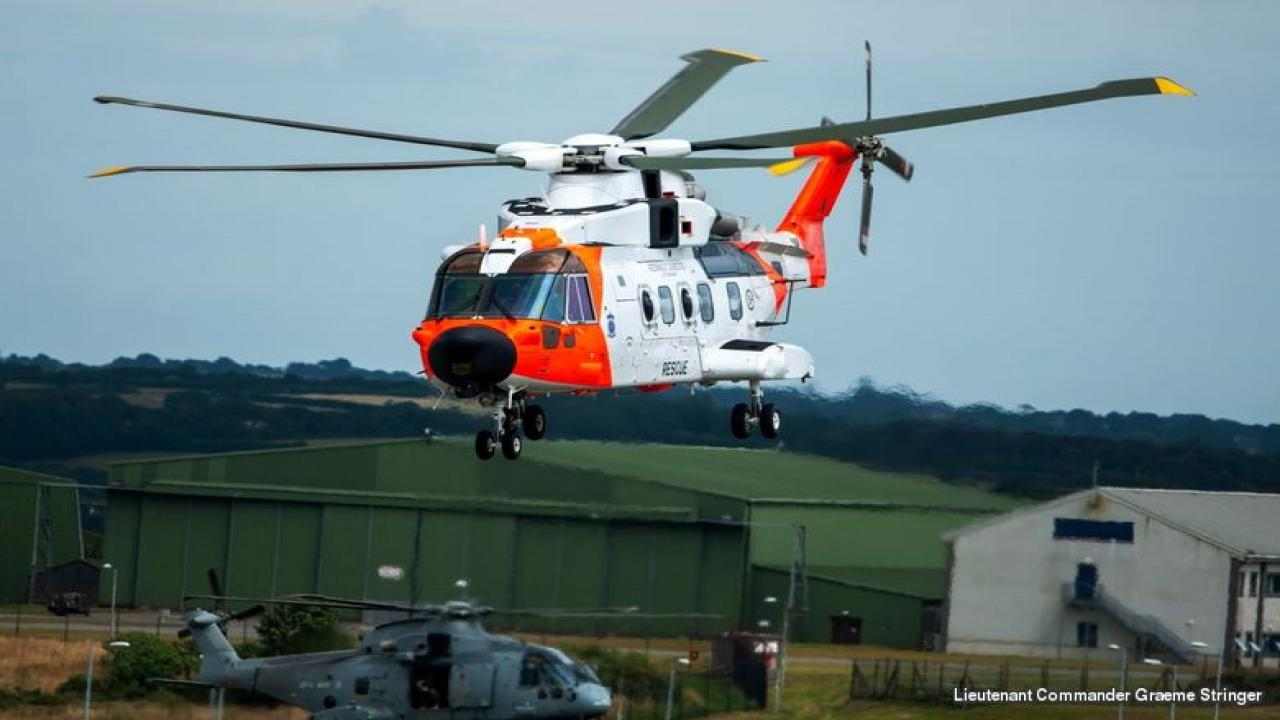Helicopter: (74, 34, 1203, 473)
